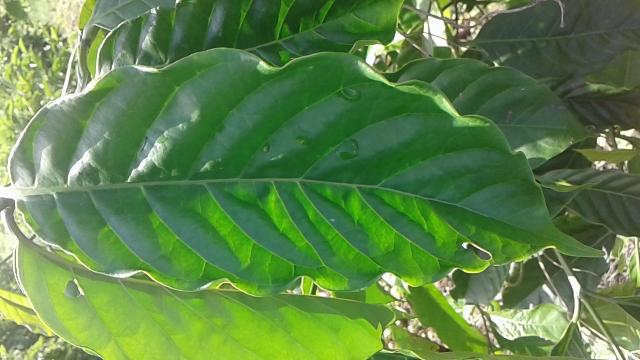healthy: (4, 43, 613, 302)
